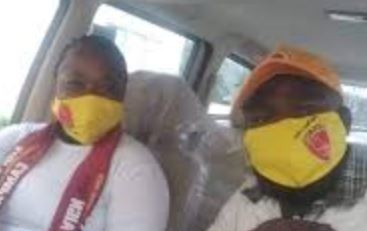with_facemask: (234, 126, 344, 179), (54, 96, 136, 138)
